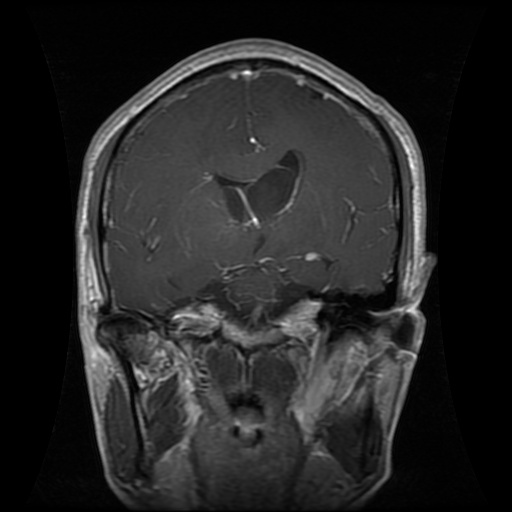glioma: (211, 148, 305, 225)
